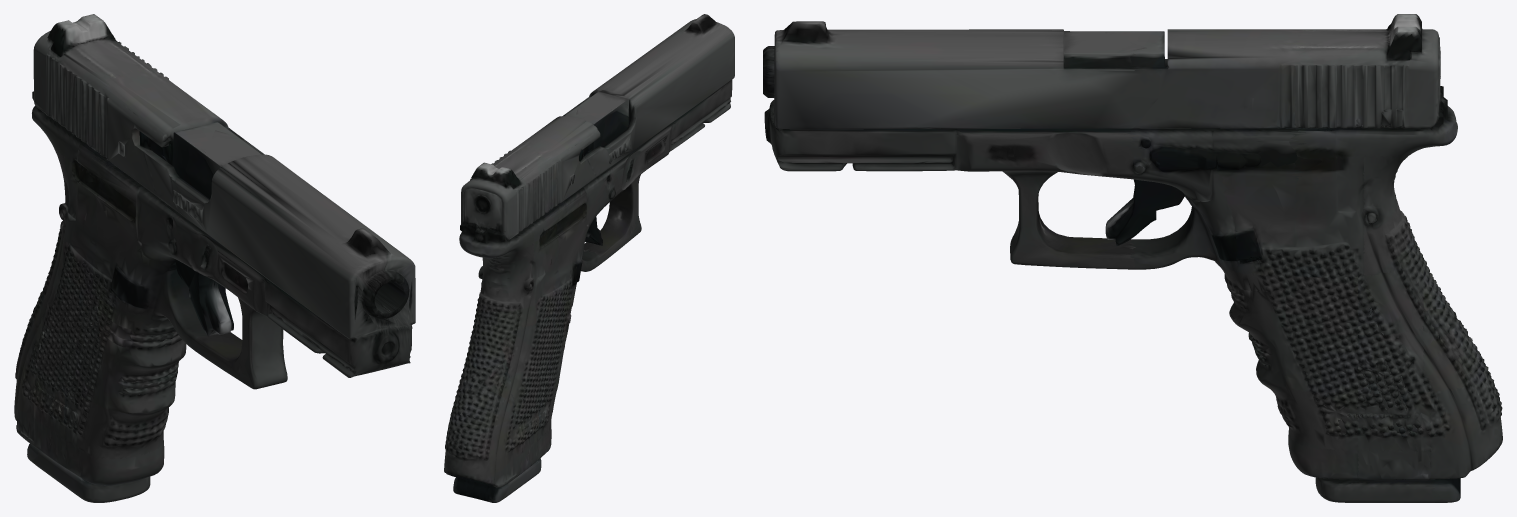
File: Hi3D_Photorealistic Glock Style Pistol 3D Model_allparts_20260824_225126-optimized.glb
The picture shows the model from 3 angles, left to right: view 1: azimuth 30°, elevation 25°; view 2: azimuth 150°, elevation 25°; view 3: azimuth 270°, elevation 25°; orthographic projection. The views are drawn at different scales.
Visible parts, largest first — view 1: geometry_0; view 2: geometry_0; view 3: geometry_0.
Part boxes in pixels (x1,y1,x2,y2): geometry_0: (14, 14, 415, 502); geometry_0: (444, 14, 734, 502); geometry_0: (763, 14, 1502, 502).
Bounding box in the file's own units: 0.148 × 0.6924 × 1.
1 material, 1 textured.
